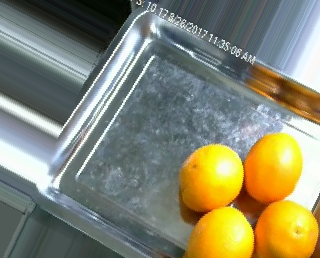Orange: (178, 143, 244, 211), (243, 133, 304, 203), (254, 200, 320, 256), (186, 206, 255, 258)
